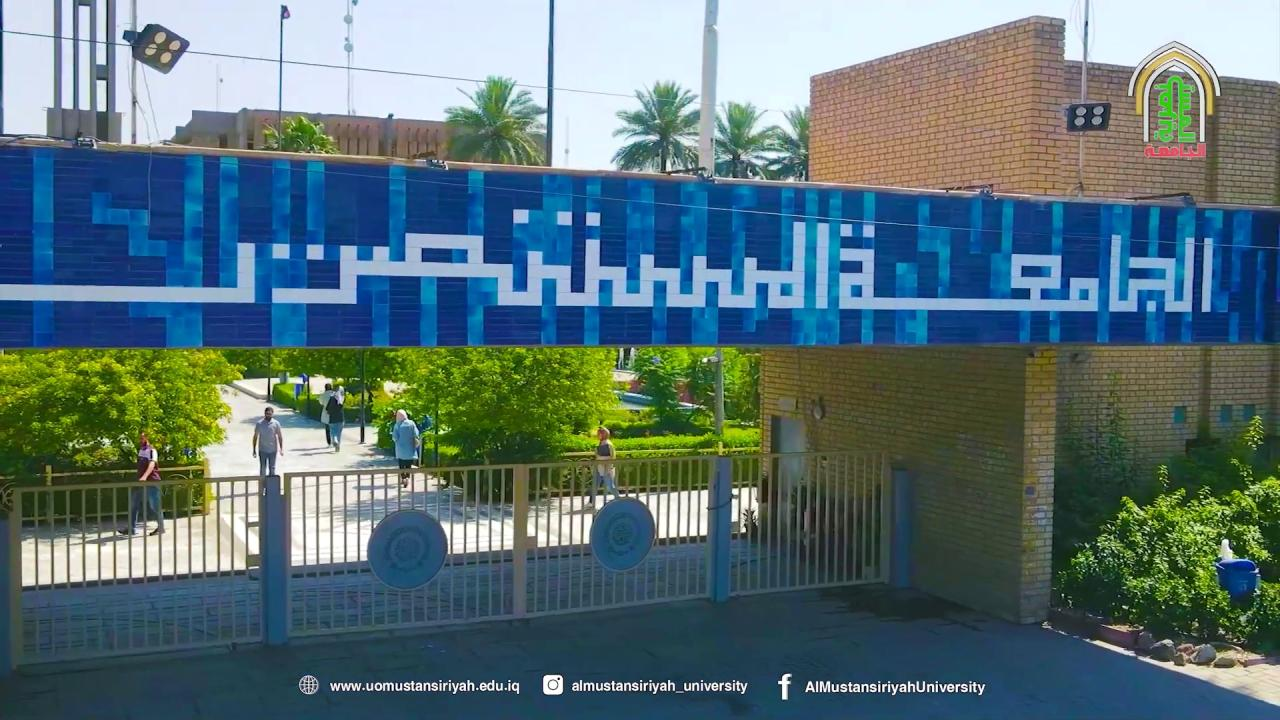fountain: (1212, 537, 1260, 599)
person: (117, 432, 165, 536), (252, 406, 284, 496), (584, 426, 618, 507), (390, 409, 421, 488), (324, 391, 345, 452), (317, 383, 336, 446)
tree: (1053, 412, 1279, 653), (0, 346, 246, 520), (384, 345, 622, 503), (275, 347, 402, 444), (628, 345, 760, 435), (442, 73, 547, 165), (610, 78, 701, 173), (628, 346, 692, 426), (711, 99, 773, 179), (225, 348, 291, 402), (766, 104, 809, 181), (260, 114, 339, 154)
